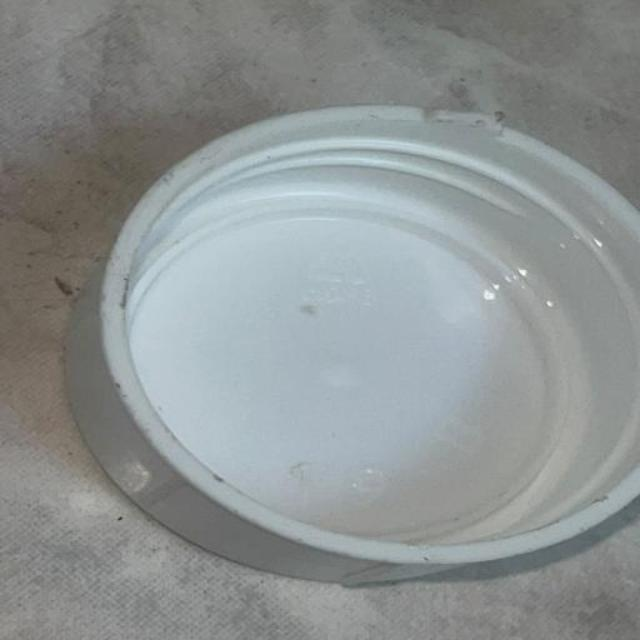HDPE: (60, 54, 606, 615)
